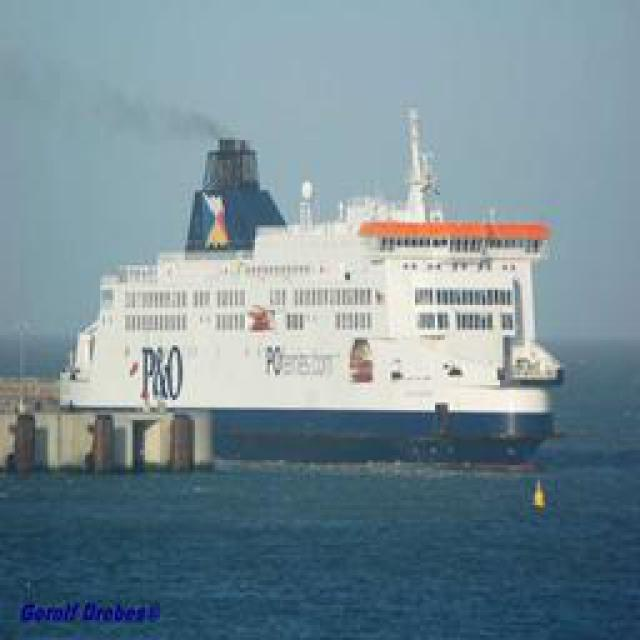Ship: (51, 106, 561, 459)
